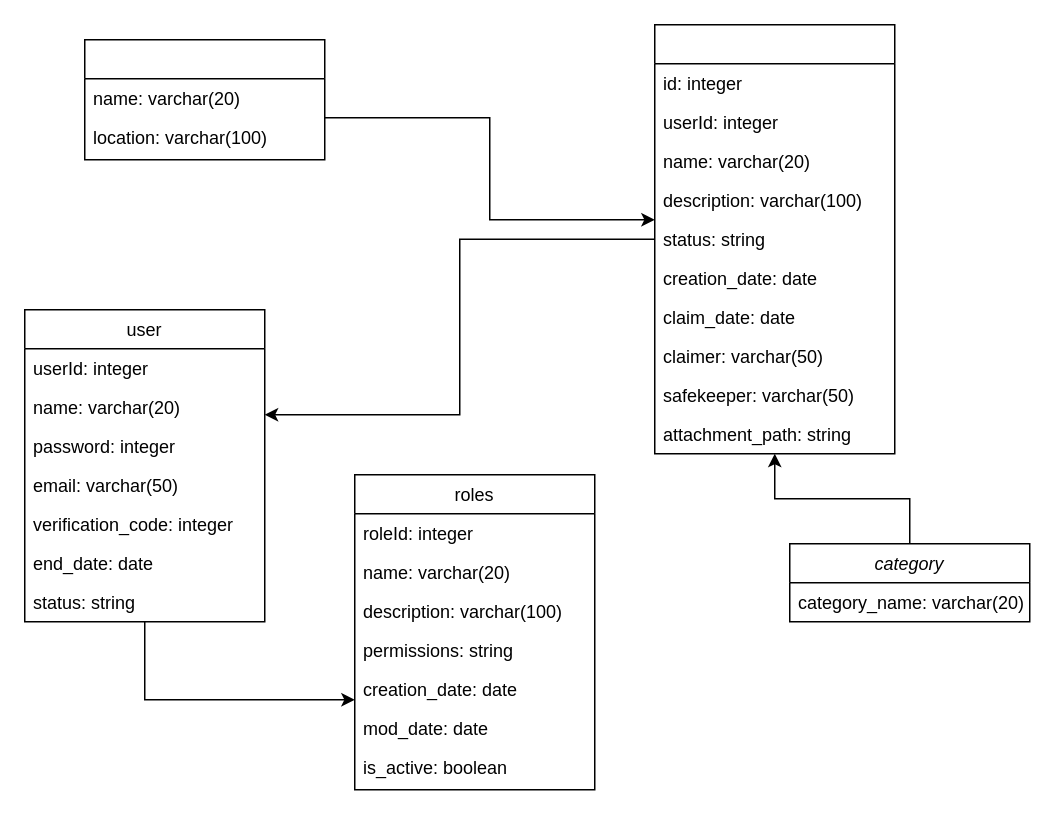
Some shapes in this 1055 by 815 pixel diagram are drawn without their labels. Each missing label, with the box of its shape:
object_lost: (653, 23, 895, 454)
zone: (83, 38, 325, 160)
